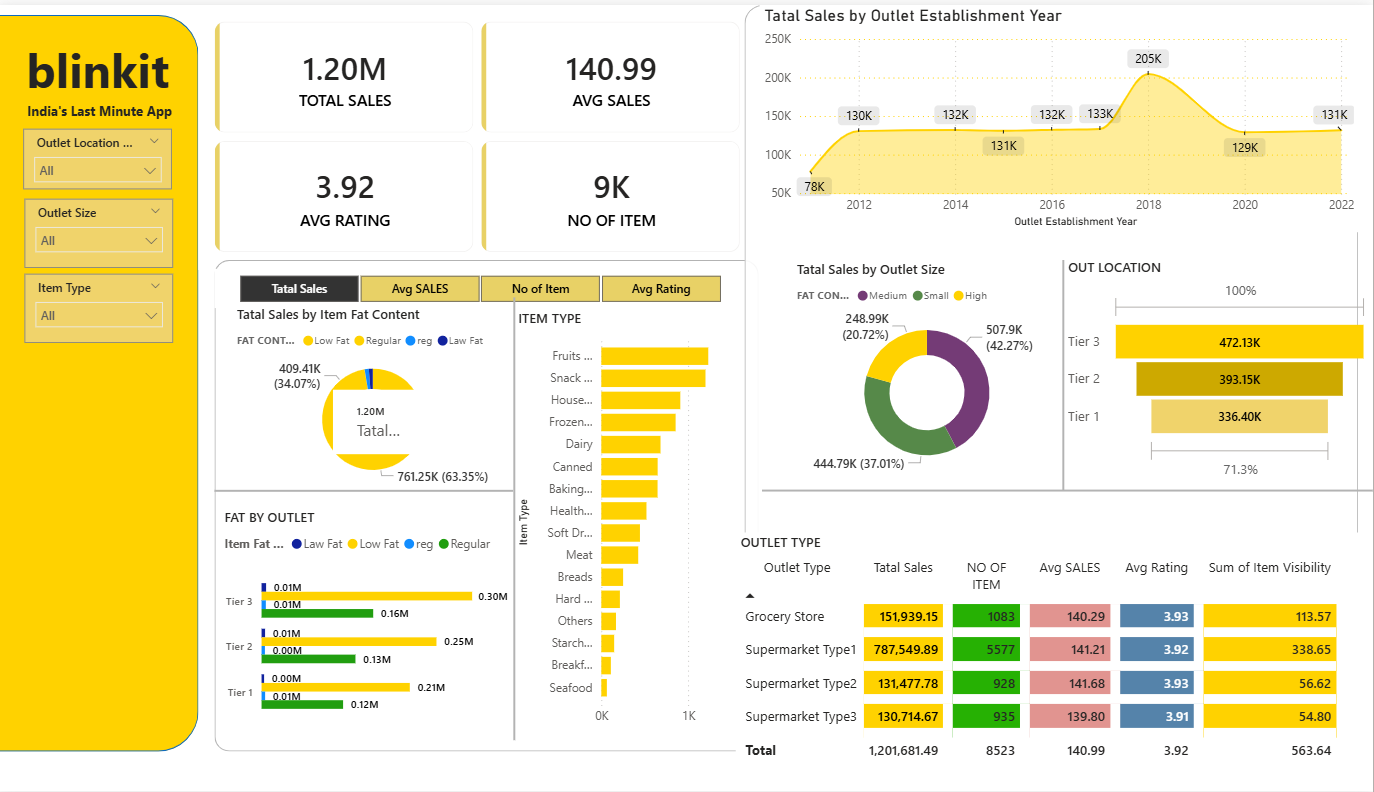

Layout of this report page (visuals, bound fields, positions):
{"tool":"powerbi","page":{"name":"Page 1","canvas":[1400,800],"ordinal":0},"visuals":[{"type":"shape","box":[0,10.7,205.1,749.3],"z":0},{"type":"textbox","box":[13.4,93.8,181,30.8],"z":1000},{"type":"textbox","box":[0,28.2,218.5,81.8],"z":2000},{"type":"cardVisual","fields":{"Data":["BlinkIT Grocery Data.Tatal Sales","BlinkIT Grocery Data.Avg SALES","BlinkIT Grocery Data.Avg Rating","BlinkIT Grocery Data.NO OF ITEM"]},"box":[205.1,0,569.7,269.4],"z":3000},{"type":"shape","box":[221.2,260.1,553.6,500],"z":4000},{"type":"donutChart","fields":{"Y":["BlinkIT Grocery Data.Tatal Sales"],"Category":["BlinkIT Grocery Data.Item Fat Content"]},"box":[238.6,305.6,286.9,187.7],"z":5000},{"type":"slicer","fields":{"Values":["Metrics.Metrics"]},"box":[221.2,268.1,538.9,40.2],"z":6000},{"type":"cardVisual","fields":{"Data":["BlinkIT Grocery Data.Tatal Sales"]},"box":[336.5,386.1,107.2,75.1],"z":7000},{"type":"clusteredBarChart","title":" FAT BY OUTLET ","fields":{"Y":["BlinkIT Grocery Data.Tatal Sales"],"Category":["BlinkIT Grocery Data.Outlet Location Type"],"Series":["BlinkIT Grocery Data.Item Fat Content"]},"box":[226.5,510.7,298.9,230.6],"z":8000},{"type":"shape","box":[221.2,465.1,304.3,57.6],"z":9000},{"type":"shape","box":[467.8,297.6,116.6,450.4],"z":10000},{"type":"barChart","title":" ITEM TYPE","fields":{"Y":["BlinkIT Grocery Data.NO OF ITEM"],"Category":["BlinkIT Grocery Data.Item Type"]},"box":[525.7,308.6,234.3,432.9],"z":11000},{"type":"shape","box":[760,0,624.3,760],"z":12000},{"type":"lineChart","fields":{"Y":["BlinkIT Grocery Data.Tatal Sales"],"Category":["BlinkIT Grocery Data.Outlet Establishment Year"]},"box":[775.7,0,610,231.4],"z":13000},{"type":"donutChart","fields":{"Y":["BlinkIT Grocery Data.Tatal Sales"],"Category":["BlinkIT Grocery Data.Outlet Size"]},"box":[808.6,260,275,225],"z":14000},{"type":"shape","box":[1025.7,260,117.1,234.3],"z":15000},{"type":"funnel","title":"OUT LOCATION","fields":{"Y":["Sum(BlinkIT Grocery Data.Sales)"],"Category":["BlinkIT Grocery Data.Outlet Location Type"]},"box":[1084.3,257.1,315.7,230],"z":16000},{"type":"shape","box":[778.6,465.7,621.4,57.1],"z":17000},{"type":"pivotTable","title":"OUTLET TYPE ","fields":{"Rows":["BlinkIT Grocery Data.Outlet Type"],"Values":["BlinkIT Grocery Data.Tatal Sales","BlinkIT Grocery Data.NO OF ITEM","BlinkIT Grocery Data.Avg SALES","BlinkIT Grocery Data.Avg Rating","Sum(BlinkIT Grocery Data.Item Visibility)"]},"box":[752,536.8,640.7,252.3],"z":18000},{"type":"slicer","fields":{"Values":["BlinkIT Grocery Data.Outlet Location Type"]},"box":[27.1,125.7,151.4,61.4],"z":19000},{"type":"slicer","fields":{"Values":["BlinkIT Grocery Data.Outlet Size"]},"box":[28.6,197.1,151.4,70],"z":20000},{"type":"slicer","fields":{"Values":["BlinkIT Grocery Data.Item Type"]},"box":[28.6,272.9,151.4,70],"z":21000}]}

Visuals, with their boxes in screenshot pixels (x1, y1, x2, y2), scaled from the page's 1400x800 canvas onto the 1374x792 screenshot:
shape: select_region(0, 11, 201, 752)
textbox: select_region(13, 93, 191, 123)
textbox: select_region(0, 28, 214, 109)
cardVisual - BlinkIT Grocery Data.Tatal Sales x BlinkIT Grocery Data.Avg SALES: select_region(201, 0, 760, 267)
shape: select_region(217, 257, 760, 752)
donutChart - BlinkIT Grocery Data.Tatal Sales x BlinkIT Grocery Data.Item Fat Content: select_region(234, 303, 516, 488)
slicer - Metrics.Metrics: select_region(217, 265, 746, 305)
cardVisual - BlinkIT Grocery Data.Tatal Sales: select_region(330, 382, 435, 457)
" FAT BY OUTLET " clusteredBarChart: select_region(222, 506, 516, 734)
shape: select_region(217, 460, 516, 517)
shape: select_region(459, 295, 574, 741)
" ITEM TYPE" barChart: select_region(516, 306, 746, 734)
shape: select_region(746, 0, 1359, 752)
lineChart - BlinkIT Grocery Data.Tatal Sales x BlinkIT Grocery Data.Outlet Establishment Year: select_region(761, 0, 1360, 229)
donutChart - BlinkIT Grocery Data.Tatal Sales x BlinkIT Grocery Data.Outlet Size: select_region(794, 257, 1063, 480)
shape: select_region(1007, 257, 1122, 489)
"OUT LOCATION" funnel: select_region(1064, 255, 1373, 482)
shape: select_region(764, 461, 1373, 518)
"OUTLET TYPE " pivotTable: select_region(738, 531, 1367, 781)
slicer - BlinkIT Grocery Data.Outlet Location Type: select_region(27, 124, 175, 185)
slicer - BlinkIT Grocery Data.Outlet Size: select_region(28, 195, 177, 264)
slicer - BlinkIT Grocery Data.Item Type: select_region(28, 270, 177, 339)
